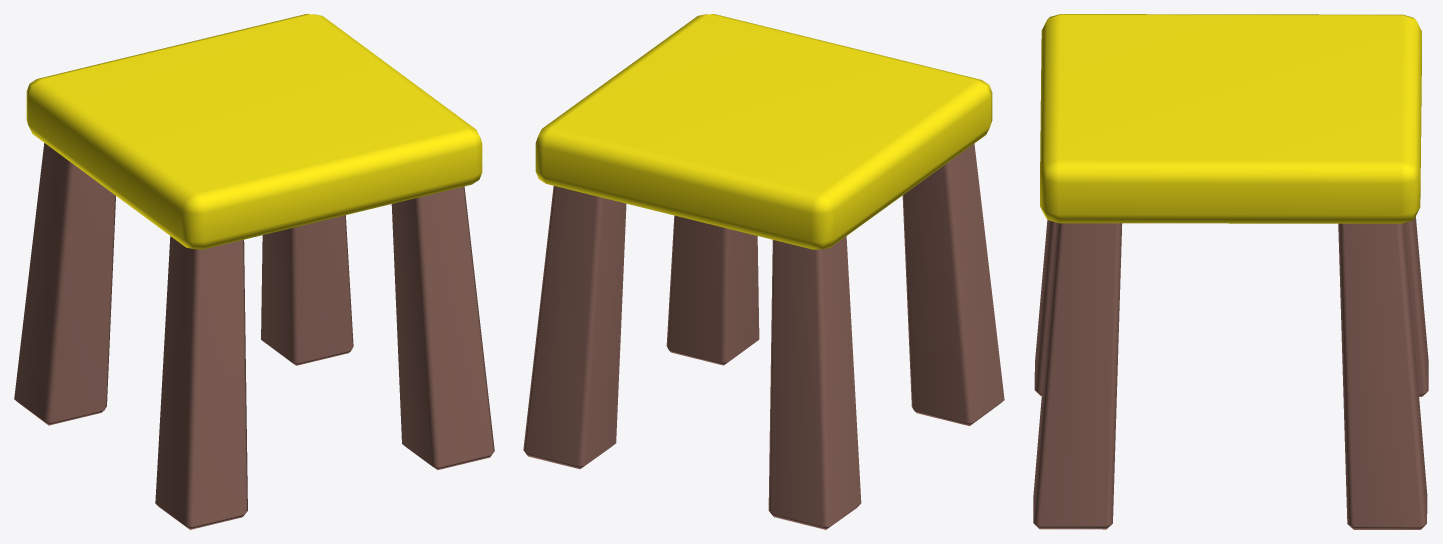
Rendered from Farm_10_Stool_1.glb.
3 renders of one model, left to right at view 1: azimuth 30°, elevation 25°; view 2: azimuth 150°, elevation 25°; view 3: azimuth 270°, elevation 25°, orthographic. The views are drawn at different scales.
Visible parts, largest first — view 1: Farm_10_Stool_1; view 2: Farm_10_Stool_1; view 3: Farm_10_Stool_1.
Part boxes in pixels (x1=…): Farm_10_Stool_1: x1=14, y1=14, x2=494, y2=529; Farm_10_Stool_1: x1=523, y1=14, x2=1004, y2=529; Farm_10_Stool_1: x1=1033, y1=14, x2=1428, y2=529.
Bounding box in the file's own units: 0.5153 × 0.5189 × 0.5152.
1 material, 1 textured.
